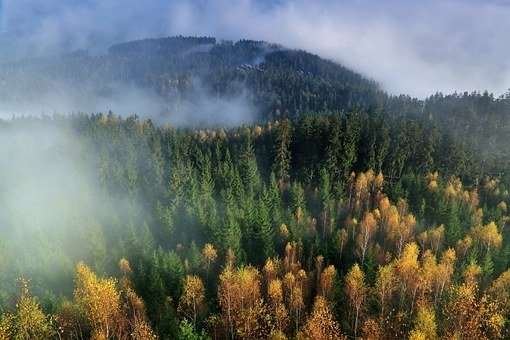forest: (3, 96, 509, 340)
mountain: (12, 45, 404, 120)
